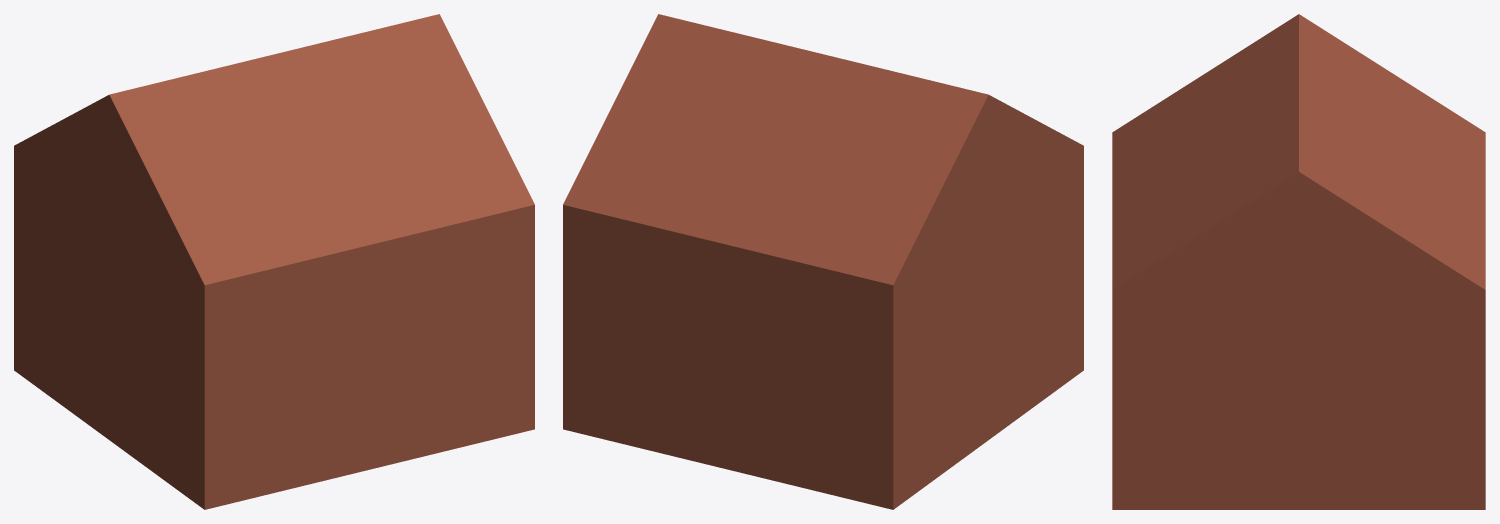
File: pitched_brick.dae
The picture shows the model from 3 angles, left to right: view 1: azimuth 30°, elevation 25°; view 2: azimuth 150°, elevation 25°; view 3: azimuth 270°, elevation 25°; orthographic projection. The views are drawn at different scales.
Parts seen in each view (by area): view 1: building; view 2: building; view 3: building.
Boxes of the visible parts, x1,y1,x2,y2 form: building: [14, 14, 534, 509]; building: [563, 14, 1083, 509]; building: [1112, 14, 1485, 509].
Size of the model in its own units: 1 by 1 by 1.
